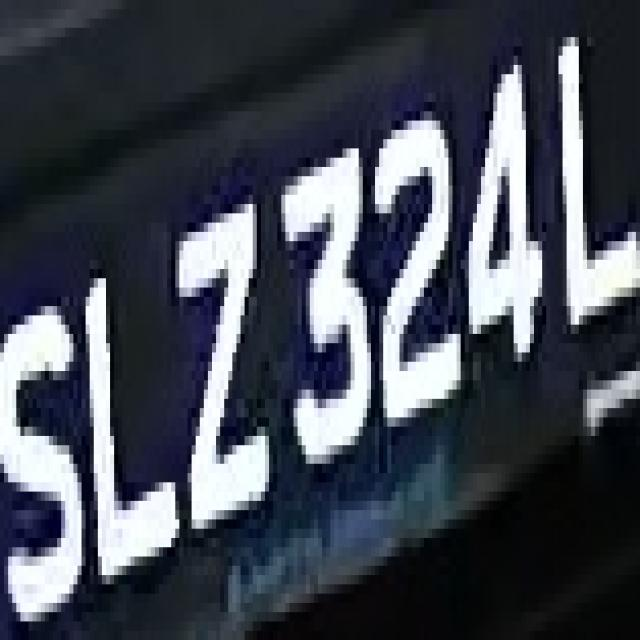2: (351, 83, 477, 436)
3: (273, 130, 375, 482)
4: (444, 37, 542, 362)
L: (74, 241, 188, 575), (550, 9, 640, 343)
S: (8, 269, 86, 612)
Z: (155, 186, 285, 547)
